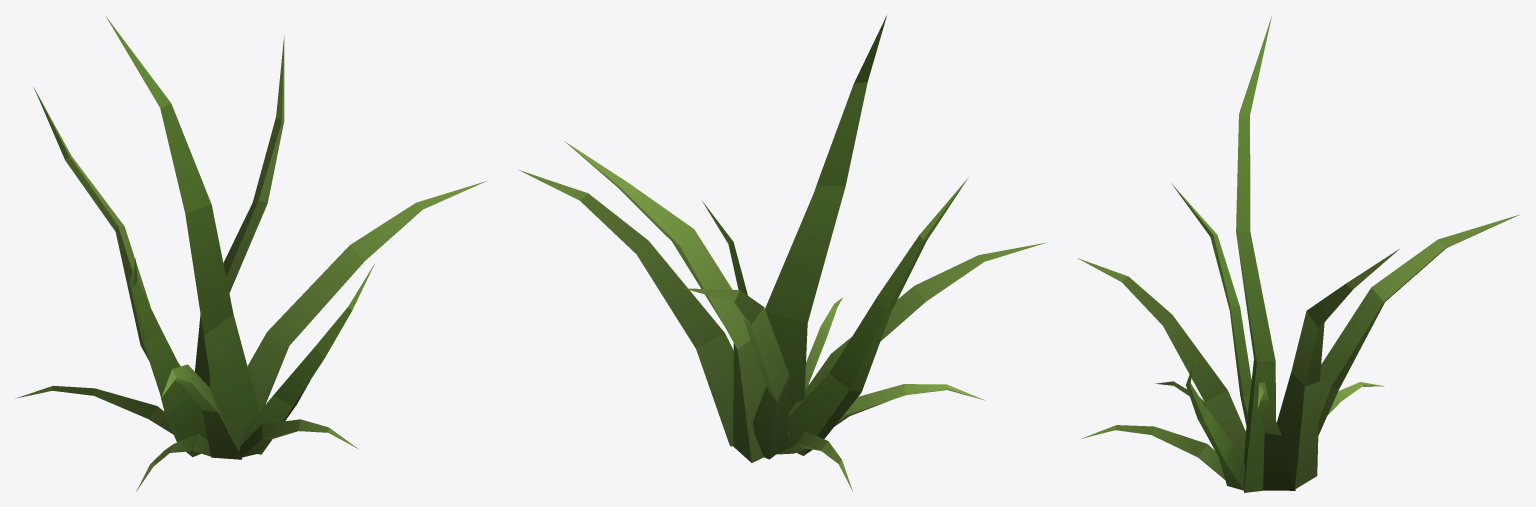
The model's file is Cavern_Grass-02.fbx.
3 views of the same model, side by side, from view 1: azimuth 30°, elevation 25°; view 2: azimuth 150°, elevation 25°; view 3: azimuth 270°, elevation 25° (orthographic). The views are drawn at different scales.
Parts seen in each view (by area): view 1: Cavern_Grass-02; view 2: Cavern_Grass-02; view 3: Cavern_Grass-02.
Boxes of the visible parts, box(x1,y1,x2,y2) form: Cavern_Grass-02: box(15, 15, 486, 491); Cavern_Grass-02: box(519, 15, 1045, 491); Cavern_Grass-02: box(1077, 16, 1519, 492).
Size of the model in its own units: 110 by 112 by 109.
1 material, 1 textured.
